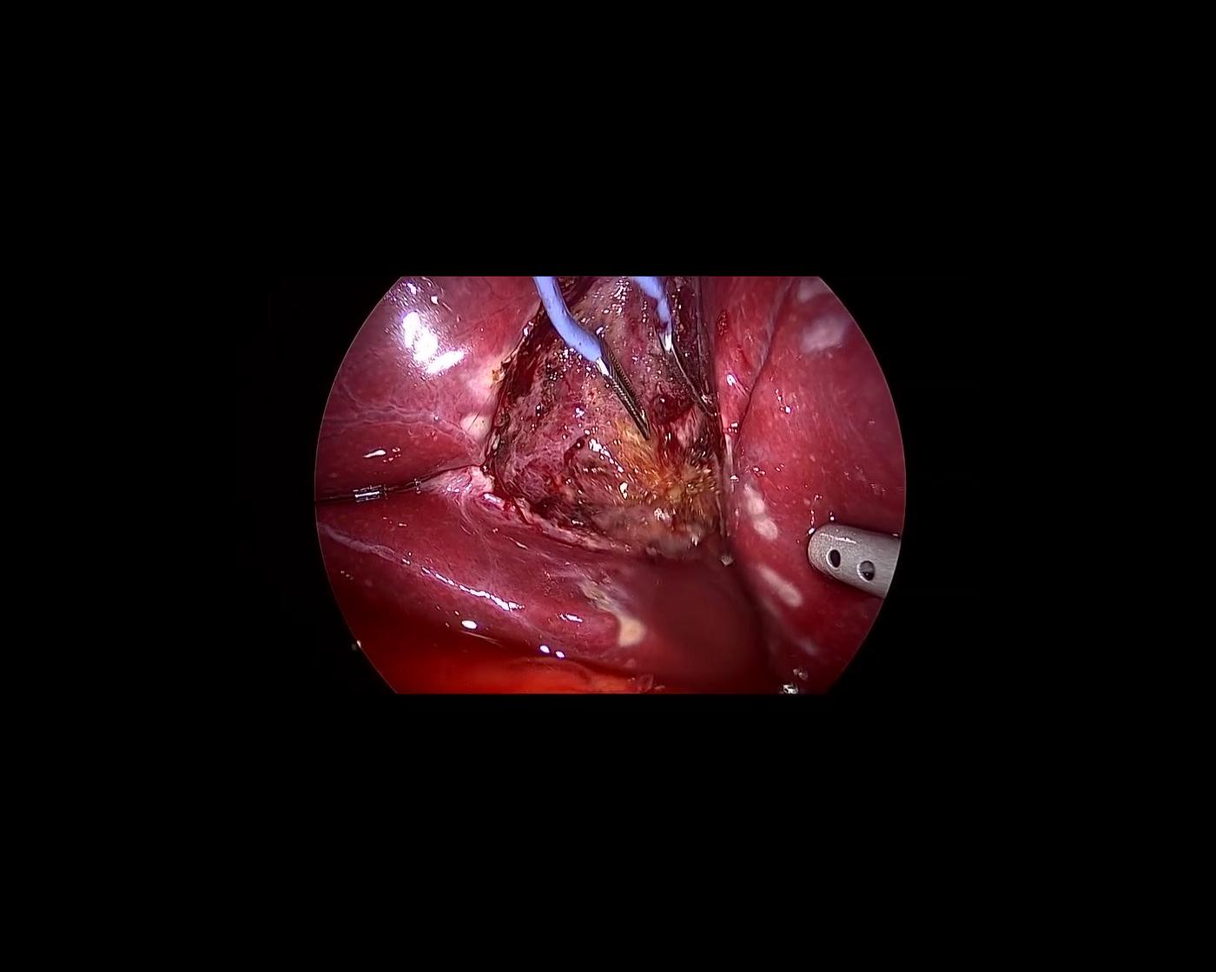Allis: (516, 263, 673, 441), (624, 265, 721, 431)
Liver: (295, 249, 810, 690), (687, 253, 939, 703)
Suction: (800, 508, 905, 600)
